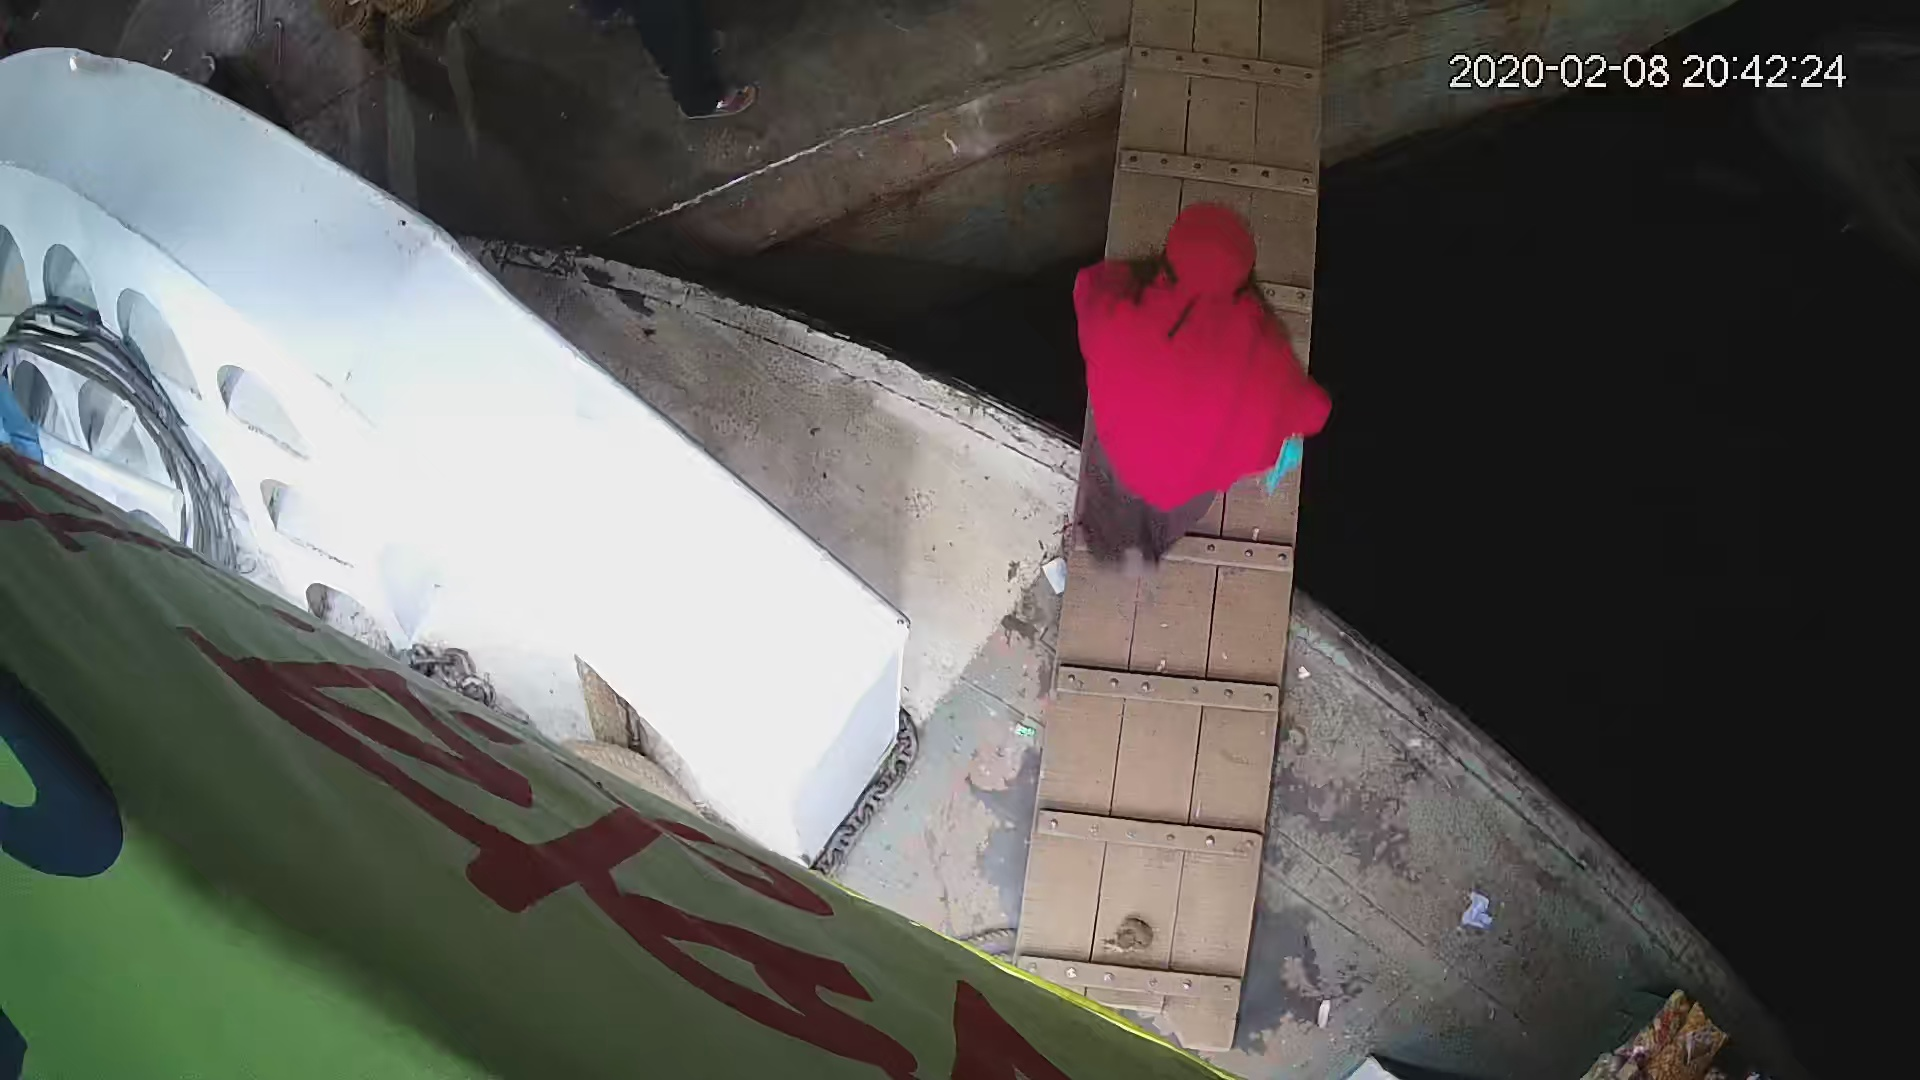person: (1061, 199, 1333, 561)
